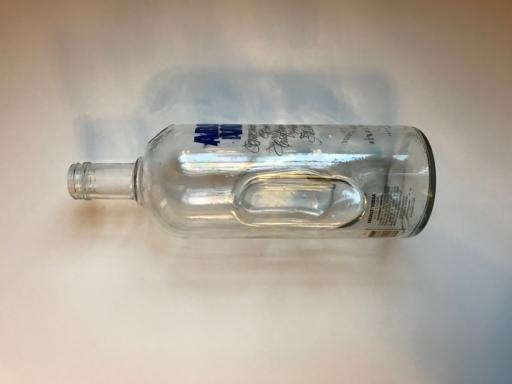botolkaca: (67, 122, 434, 238)
